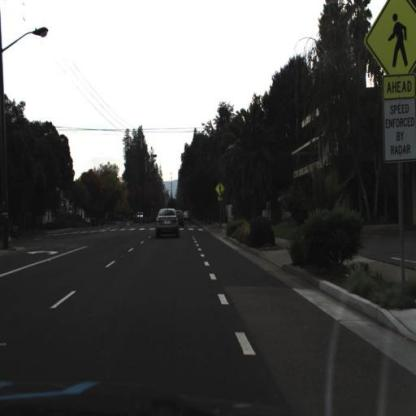car: (151, 199, 182, 247), (134, 211, 149, 231), (176, 204, 185, 231), (177, 206, 185, 233), (183, 203, 190, 225)
